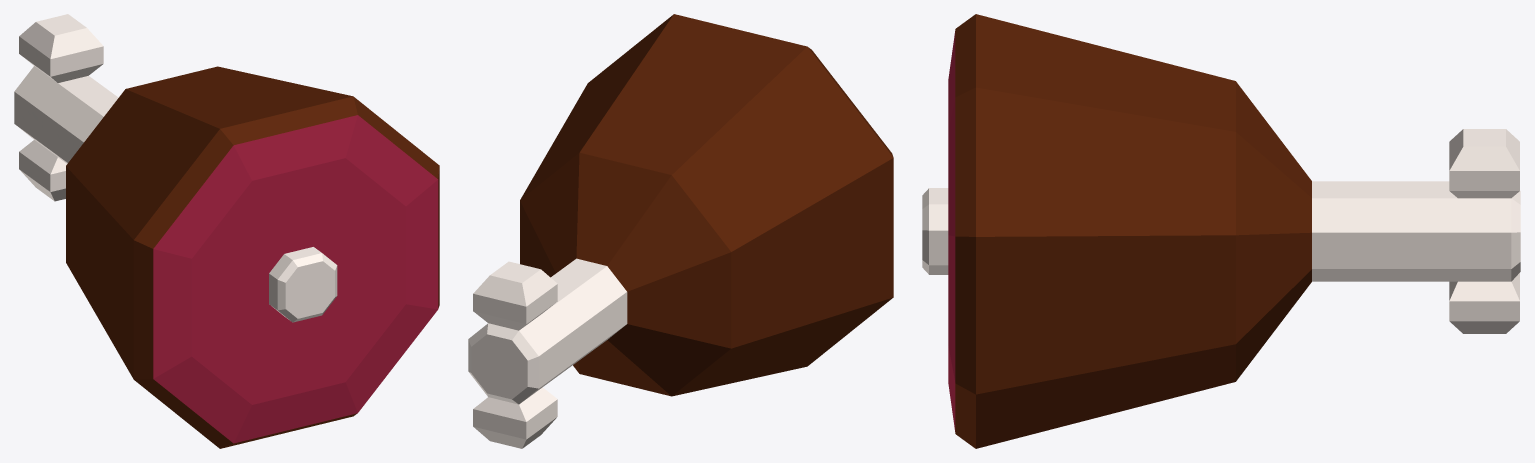
File: Meat.fbx
3 renders of one model, left to right at view 1: azimuth 30°, elevation 25°; view 2: azimuth 150°, elevation 25°; view 3: azimuth 270°, elevation 25°, orthographic. The views are drawn at different scales.
Parts seen in each view (by area): view 1: Cube; view 2: Cube; view 3: Cube.
Boxes of the visible parts, box(x1,y1,x2,y2) form: Cube: box(14, 14, 439, 448); Cube: box(468, 14, 893, 448); Cube: box(922, 14, 1520, 448).
Size of the model in its own units: 294 by 196 by 196.
